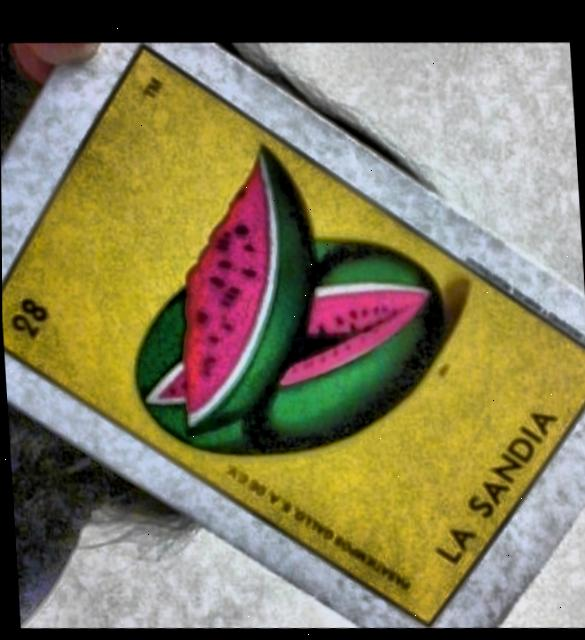La Sandia: (2, 47, 585, 617)
